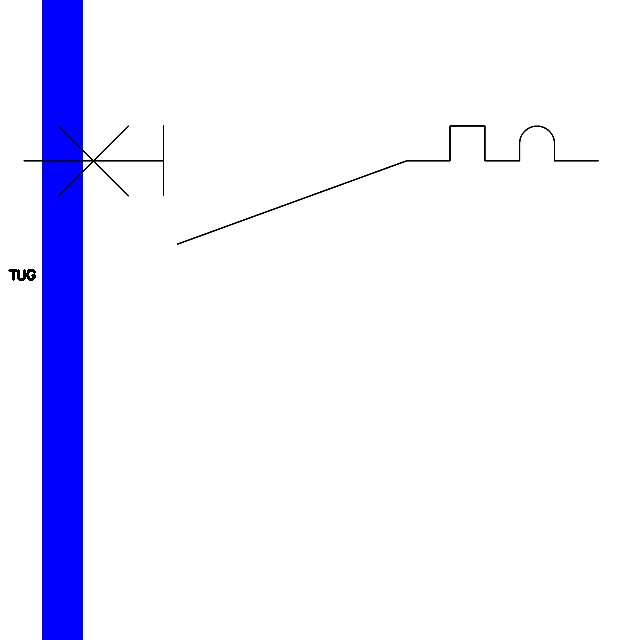interruptor_termomagnetico: (9, 111, 613, 259)
